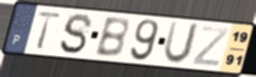9: (129, 18, 160, 63)
B: (93, 16, 131, 59)
S: (57, 12, 95, 56)
T: (35, 9, 64, 51)
U: (161, 19, 202, 66)
Z: (190, 25, 231, 68)
